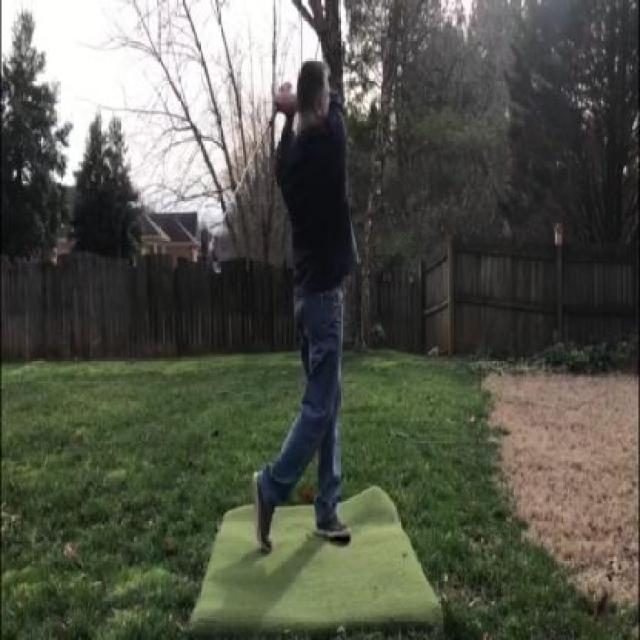club head: (207, 232, 222, 278)
